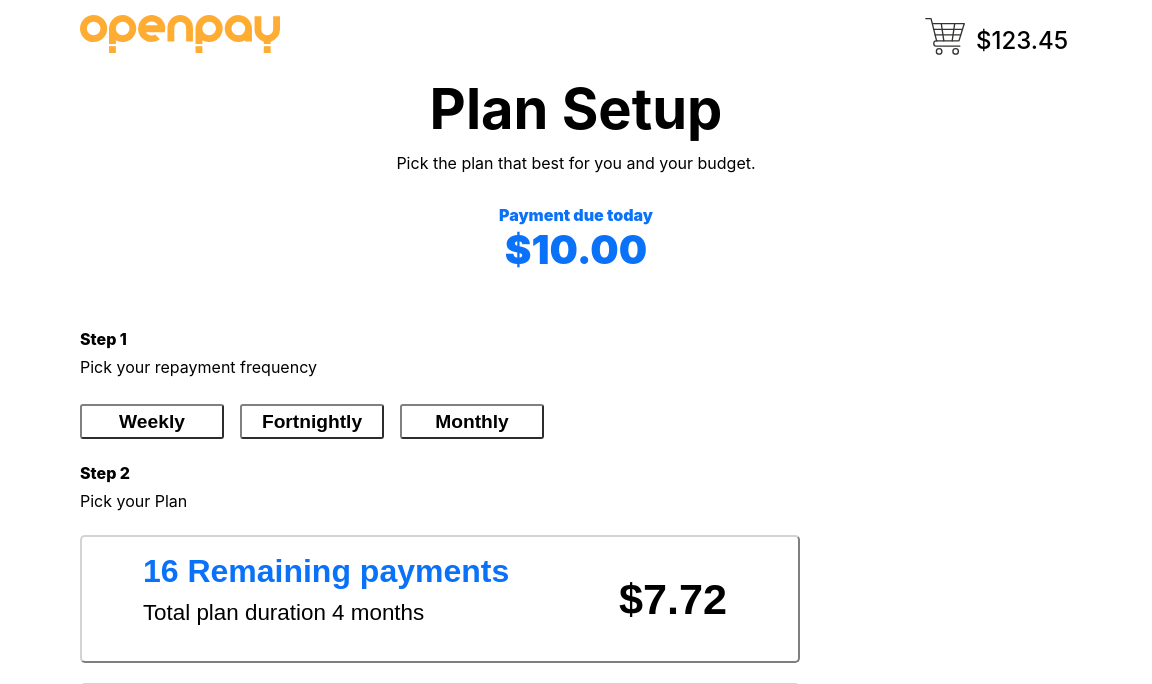
Test case: test user action › if user click monthly, 3 remaing payments total plan duration 3 months $41.15 should be rendered on the page
This screenshot has width=1152, height=684.
Click the button "Monthly". click: (472, 422)
box: [400,404,544,439]
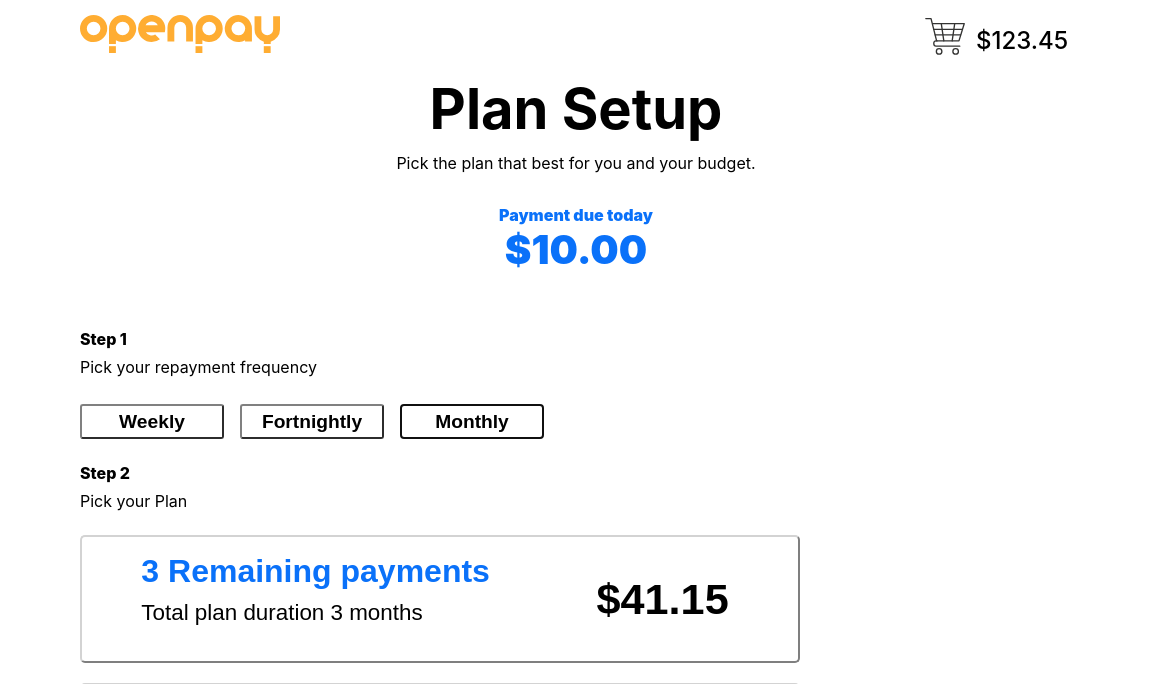
Expected: the text "Total plan duration 3 months" is shown, [141,600,423,626]
Expected: the text "3 Remaining payments" is shown, [141,553,490,590]
Expected: the text "$41.15" is shown, [596,575,729,624]
